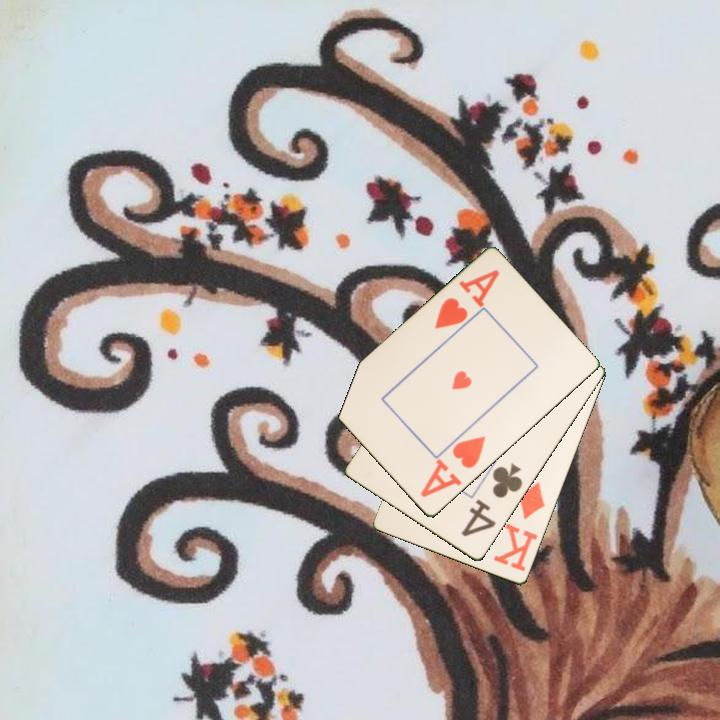4c: (458, 460, 526, 540)
Ah: (417, 433, 489, 501), (431, 266, 503, 333)
Kd: (490, 479, 548, 575)
